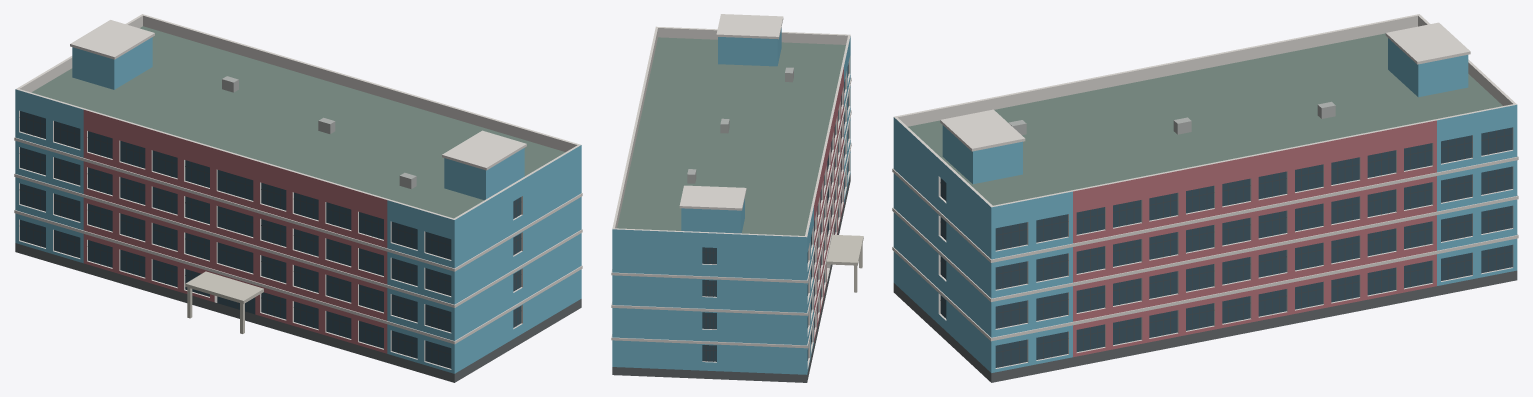
The picture shows the model from 3 angles, left to right: view 1: azimuth 30°, elevation 25°; view 2: azimuth 150°, elevation 25°; view 3: azimuth 270°, elevation 25°; orthographic projection. The views are drawn at different scales.
Parts seen in each view (by area): view 1: wing4__roof, wing4__brick, wing4__glass, wing4__wall-plaster, wing4__trim-concrete, wing4__frame, wing4__base-stone, wing4__canopy-concrete, wing4__equipment; view 2: wing4__roof, wing4__brick, wing4__trim-concrete, wing4__wall-plaster, wing4__base-stone, wing4__glass, wing4__canopy-concrete, wing4__equipment, wing4__frame; view 3: wing4__roof, wing4__glass, wing4__brick, wing4__wall-plaster, wing4__trim-concrete, wing4__frame, wing4__base-stone, wing4__equipment.
Boxes of the visible parts, bbox=[...] form: wing4__roof: bbox=[31, 26, 565, 218]; wing4__brick: bbox=[15, 37, 581, 373]; wing4__glass: bbox=[20, 111, 521, 368]; wing4__wall-plaster: bbox=[83, 110, 387, 353]; wing4__trim-concrete: bbox=[14, 14, 582, 369]; wing4__frame: bbox=[19, 113, 521, 366]; wing4__base-stone: bbox=[15, 243, 581, 382]; wing4__canopy-concrete: bbox=[185, 271, 263, 333]; wing4__equipment: bbox=[222, 76, 416, 189]; wing4__roof: bbox=[617, 37, 845, 235]; wing4__brick: bbox=[612, 28, 850, 374]; wing4__trim-concrete: bbox=[611, 14, 851, 368]; wing4__wall-plaster: bbox=[814, 67, 843, 342]; wing4__base-stone: bbox=[612, 174, 850, 382]; wing4__glass: bbox=[702, 63, 848, 361]; wing4__canopy-concrete: bbox=[826, 234, 863, 292]; wing4__equipment: bbox=[687, 67, 793, 183]; wing4__frame: bbox=[702, 247, 716, 361]; wing4__roof: bbox=[908, 33, 1502, 205]; wing4__glass: bbox=[940, 127, 1512, 367]; wing4__brick: bbox=[893, 38, 1517, 372]; wing4__wall-plaster: bbox=[1073, 120, 1436, 357]; wing4__trim-concrete: bbox=[892, 14, 1518, 368]; wing4__frame: bbox=[940, 129, 1512, 366]; wing4__base-stone: bbox=[893, 270, 1517, 382]; wing4__equipment: bbox=[1008, 101, 1335, 135].
Bounding box in the file's own units: 38.37 × 18.45 × 52.23.
